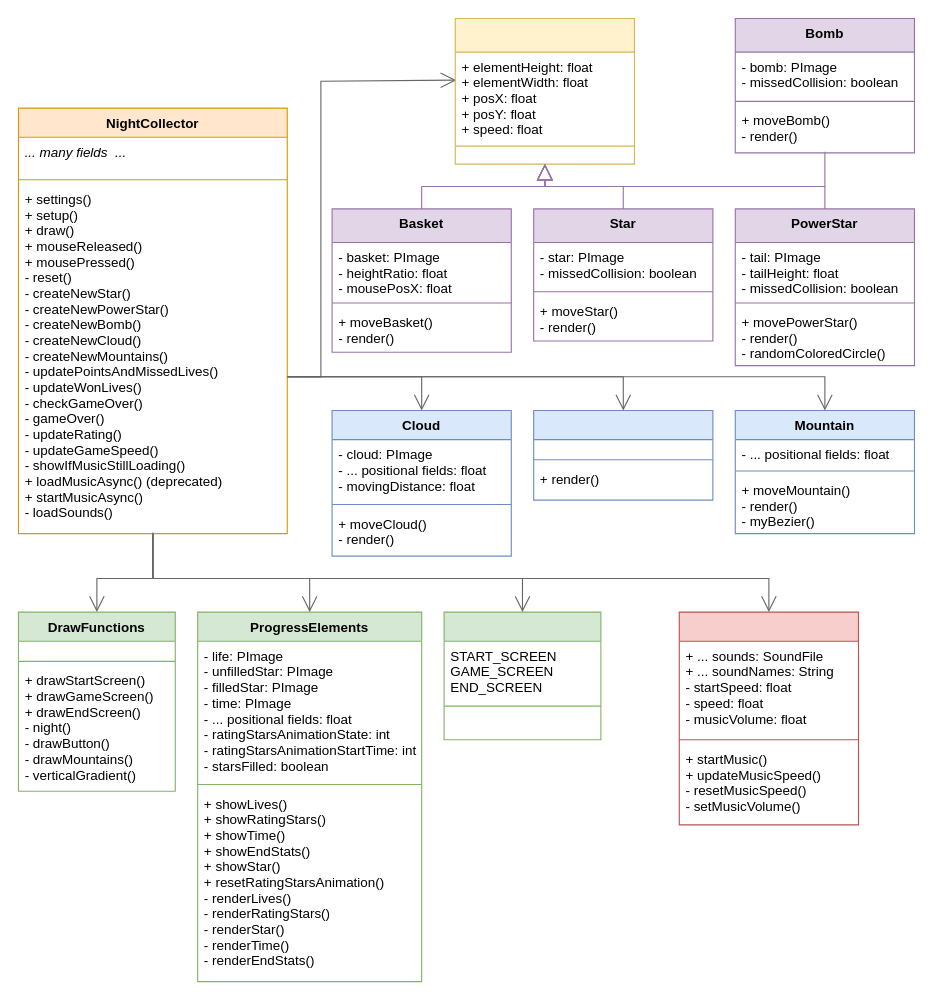
Image size: 933x1000. Some labels were removed from this diagram. Each missing label, with the box of its shape:
CollisionElement: (454, 17, 634, 164)
Ground: (533, 409, 713, 500)
Screen (enum): (443, 611, 601, 740)
SoundPlayer: (678, 611, 858, 825)
